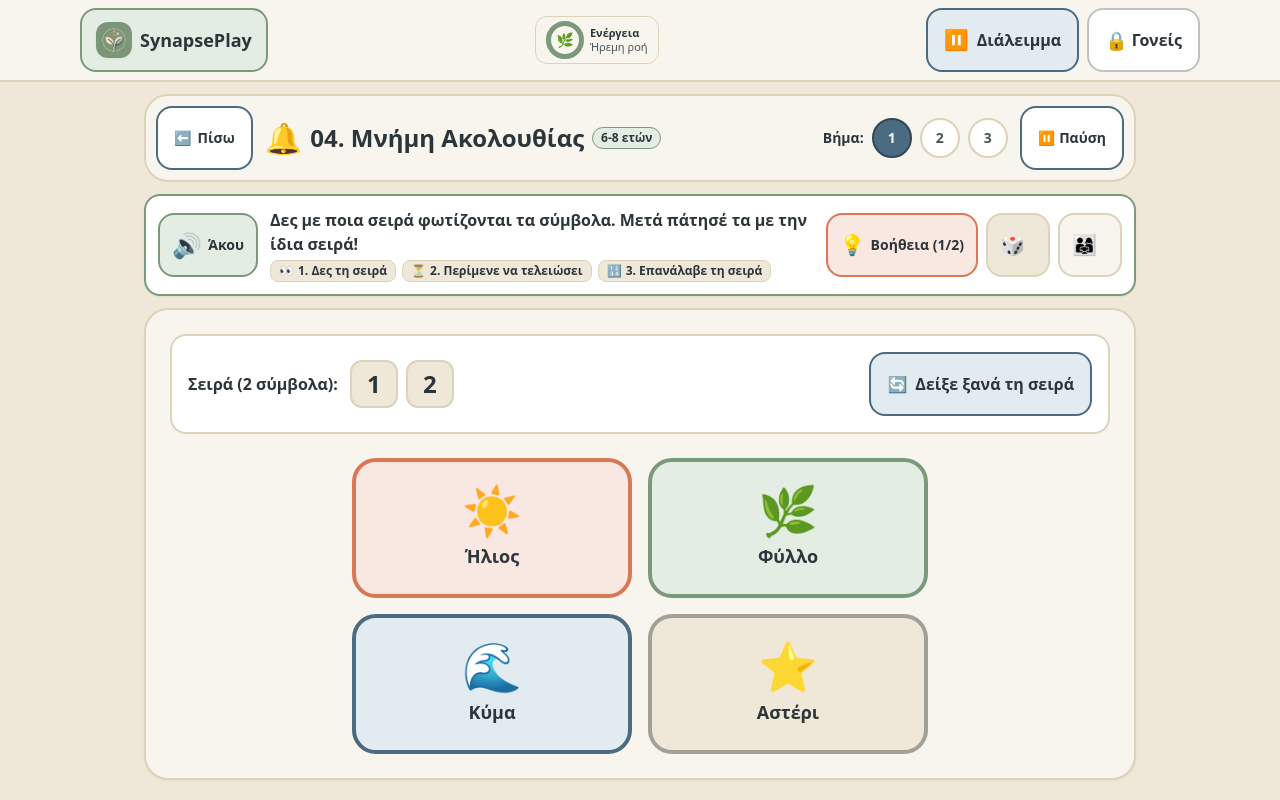
it: SynapsePlay (FocusEngine 5+) — Full Gate 1 to Gate 5 Verification Suite › GATE 2: MVP Activities (01, 04, 07, 11) & 400ms Anti-Frustration Debounce › renders Activity 04 (Sequence Memory) with Hint Ladder and non-punitive retry
The width and height of the screenshot is (1280, 800).
Expected: the element with test id "activity-04-sequence-memory" is shown, 170,334 -> 1110,754
Click the button with test id "hint-ladder-btn" at (902, 245), box 826,213 -> 978,277
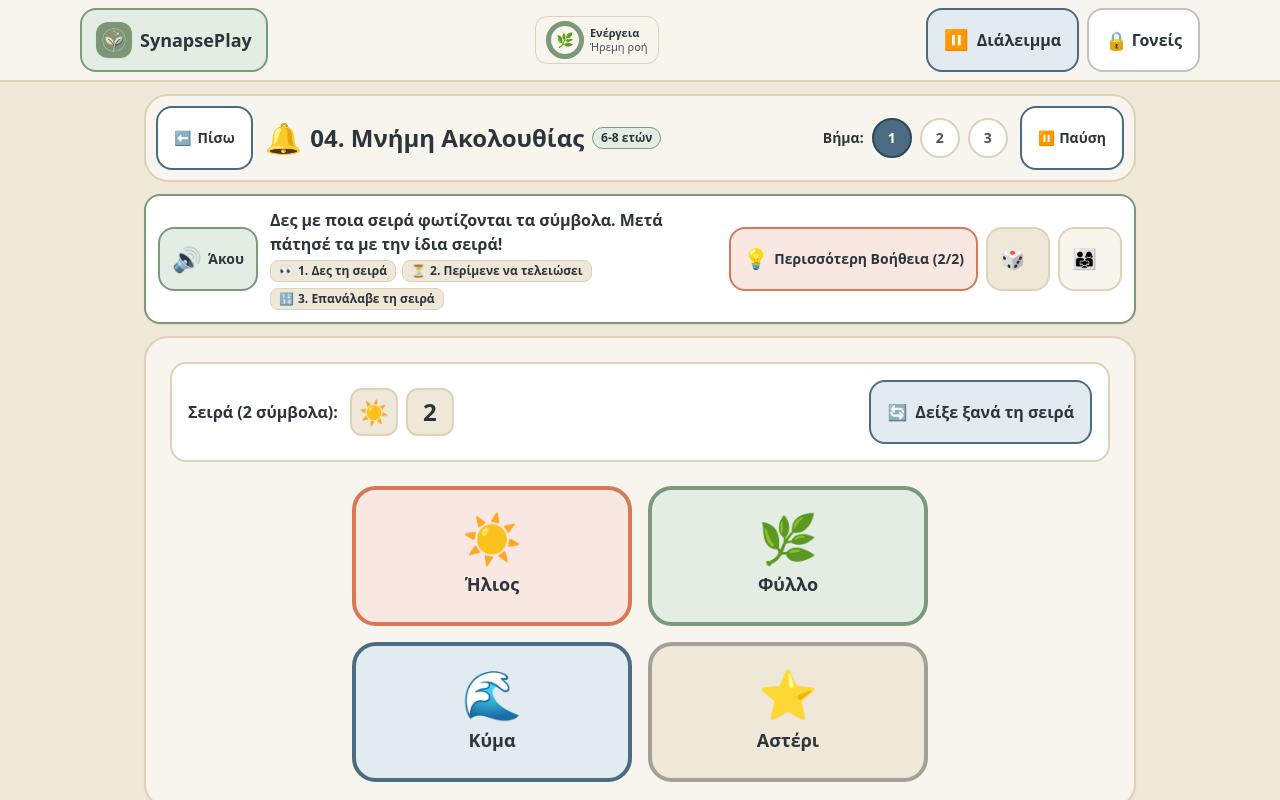
Expected: the button with test id "hint-ladder-btn" shows "Περισσότερη Βοήθεια (2/2)"
Click the button with test id "hint-ladder-btn" at (854, 259), box 729,227 -> 978,291
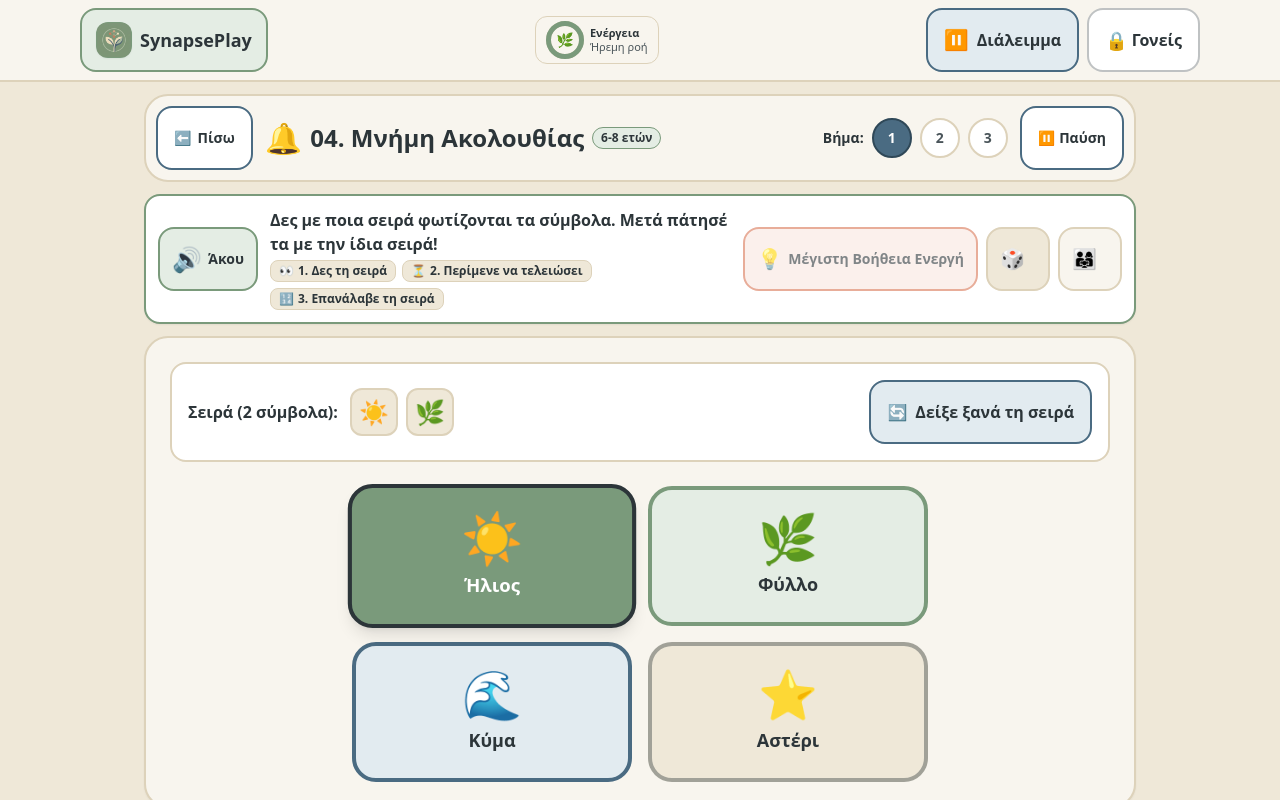
Expected: the button with test id "hint-ladder-btn" shows "Μέγιστη Βοήθεια Ενεργή", 743,227 -> 978,291
